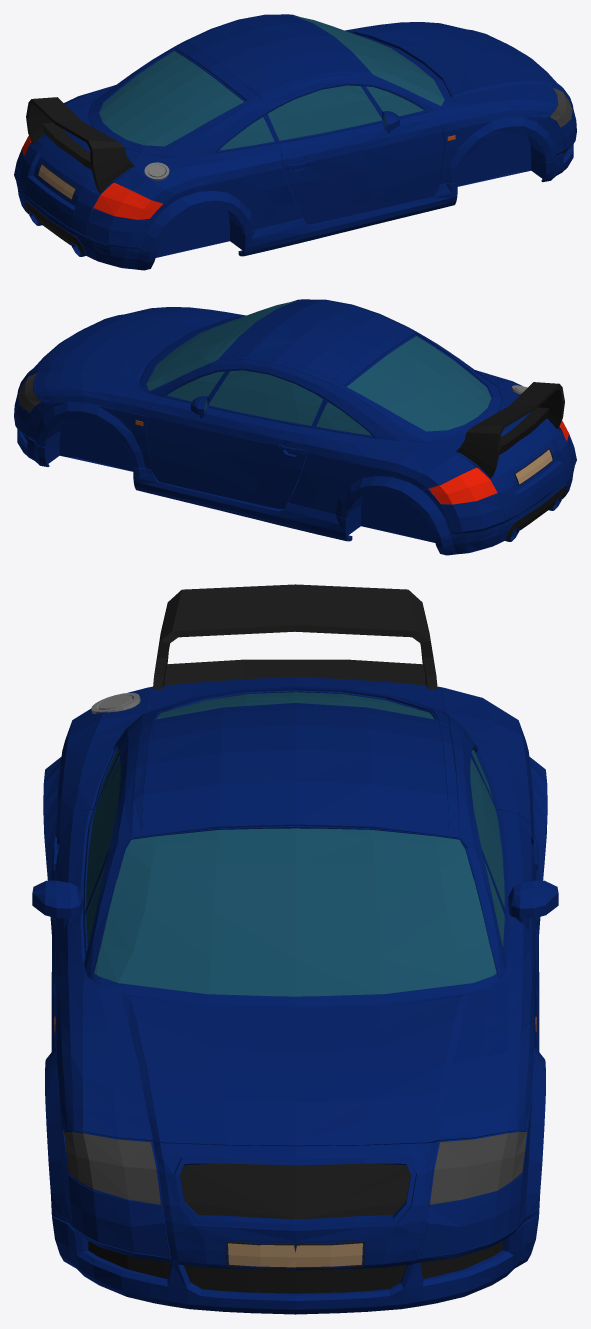
File: audiTT.glb
The picture shows the model from 3 angles, top to bottom: view 1: azimuth 30°, elevation 25°; view 2: azimuth 150°, elevation 25°; view 3: azimuth 270°, elevation 25°; orthographic projection. The views are drawn at different scales.
Parts seen in each view (by area): view 1: audiTTx, cristales, aleron, faros-t, deflector, faros-d, matriculas, deposito-g; view 2: audiTTx, cristales, aleron, faros-t, deflector, faros-d, matriculas; view 3: audiTTx, cristales, entradas-aire, aleron, faros-d, matriculas.
Boxes of the visible parts, bbox=[...] form: audiTTx: bbox=[14, 14, 576, 270]; cristales: bbox=[99, 15, 444, 150]; aleron: bbox=[26, 97, 134, 194]; faros-t: bbox=[22, 135, 162, 219]; deflector: bbox=[24, 201, 85, 255]; faros-d: bbox=[550, 88, 572, 127]; matriculas: bbox=[38, 164, 75, 199]; deposito-g: bbox=[144, 162, 169, 180]; audiTTx: bbox=[14, 299, 576, 555]; cristales: bbox=[146, 300, 491, 435]; aleron: bbox=[456, 382, 564, 479]; faros-t: bbox=[428, 420, 568, 504]; deflector: bbox=[505, 486, 566, 540]; faros-d: bbox=[18, 373, 40, 412]; matriculas: bbox=[515, 449, 552, 484]; audiTTx: bbox=[32, 677, 558, 1314]; cristales: bbox=[86, 692, 504, 996]; entradas-aire: bbox=[88, 1163, 502, 1293]; aleron: bbox=[153, 584, 437, 689]; faros-d: bbox=[64, 1132, 526, 1204]; matriculas: bbox=[228, 1243, 362, 1267].
Bounding box in the file's own units: 75.83 × 21.89 × 34.26.
